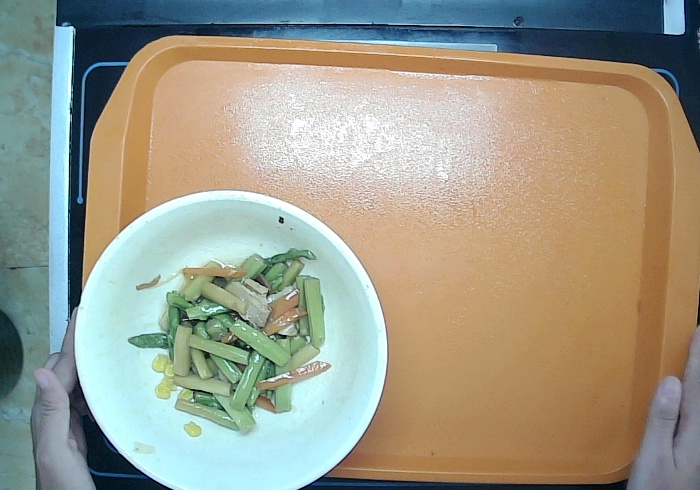ZNLD-Da_Tang_Wan: (74, 188, 388, 490)
